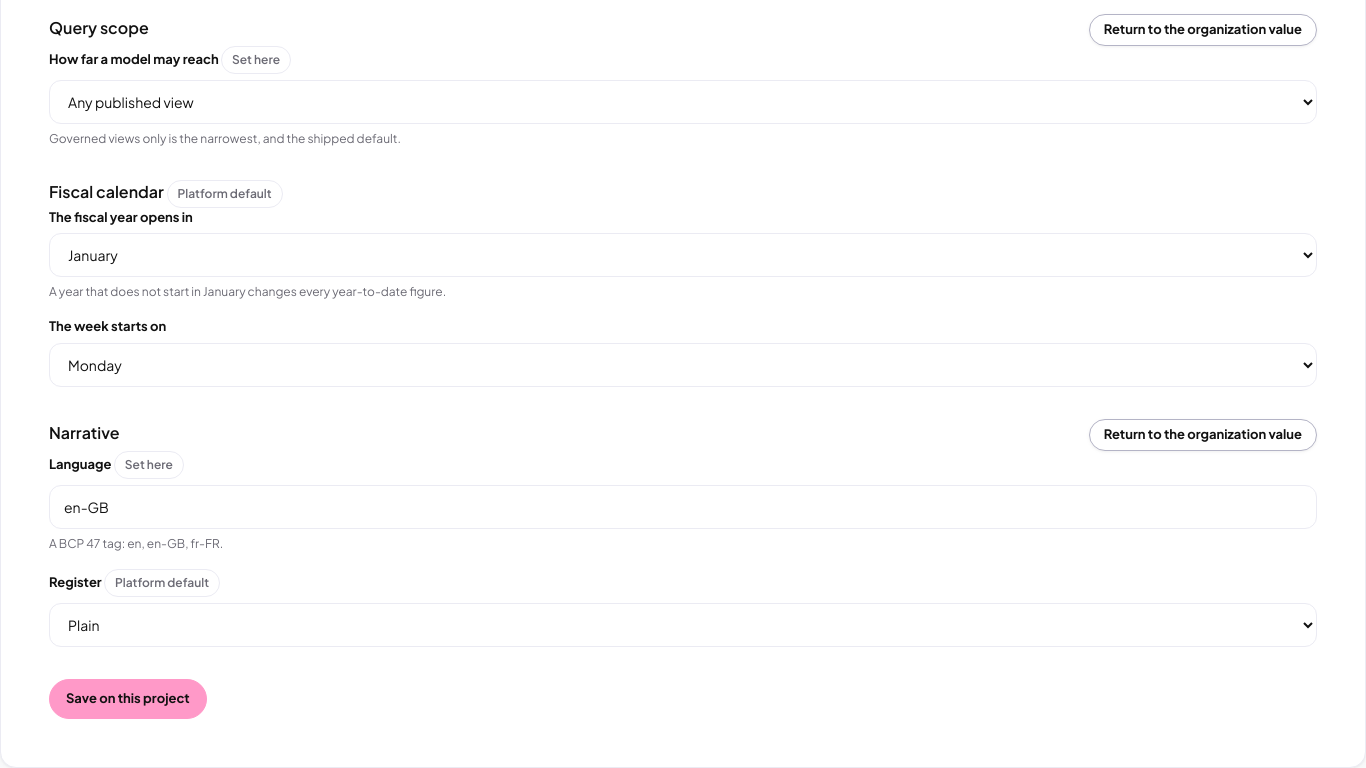
Test: returning ONE group › restates the other overrides instead of clearing the whole scope
(page scrolled)
Click the button with test id "ai-setting-clear-narrative": (1203, 435) [1089, 419, 1317, 451]
(page scrolled)
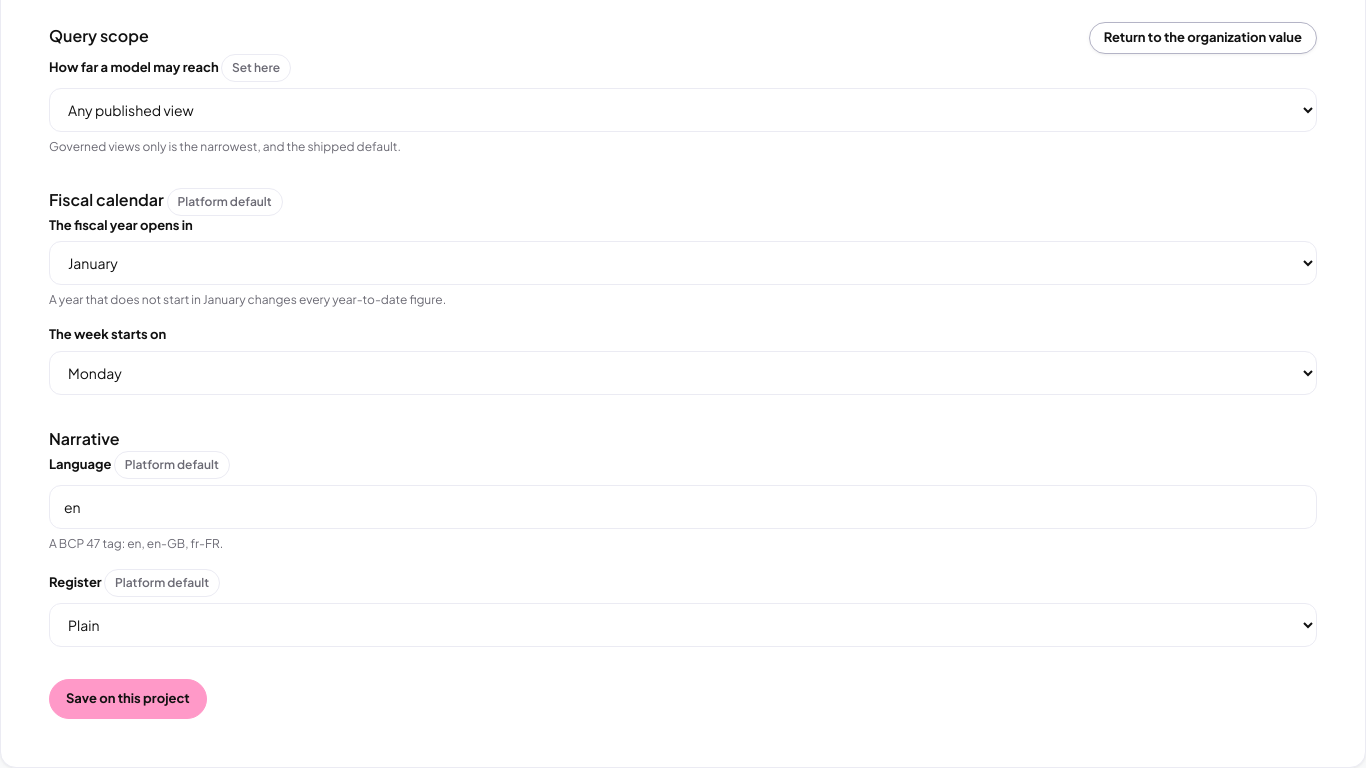
Check: the button with test id "ai-setting-clear-reach" is shown, box [1089, 22, 1317, 54]
Check: the button with test id "ai-setting-clear-narrative" is gone
